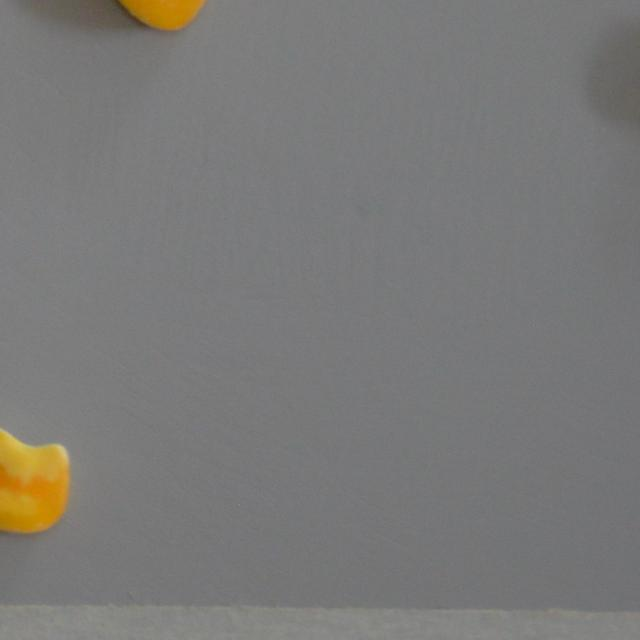no_canjicado: (0, 422, 71, 536), (102, 0, 220, 31)
